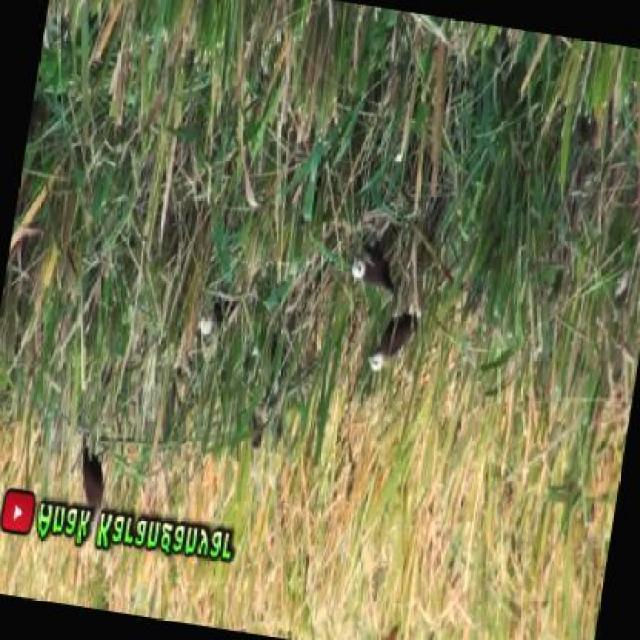Bird: (356, 303, 426, 377), (341, 243, 415, 300), (76, 439, 117, 514)
